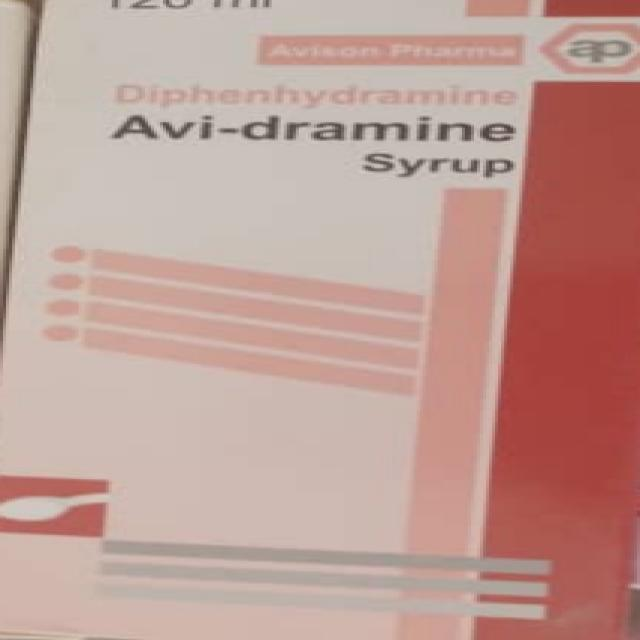drug-name: (110, 114, 524, 142)
